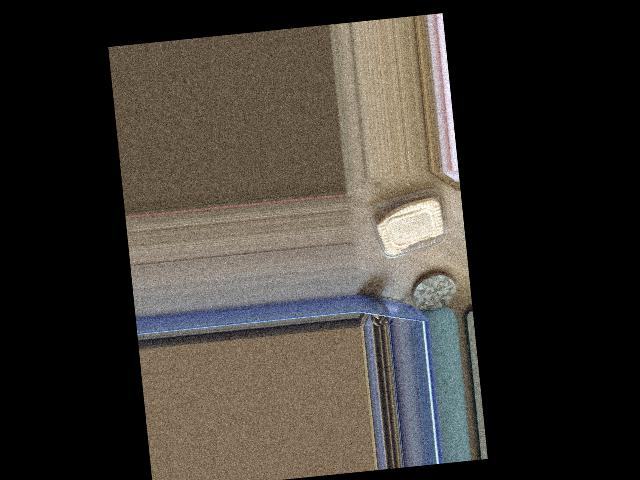cheese: (372, 169, 460, 263)
